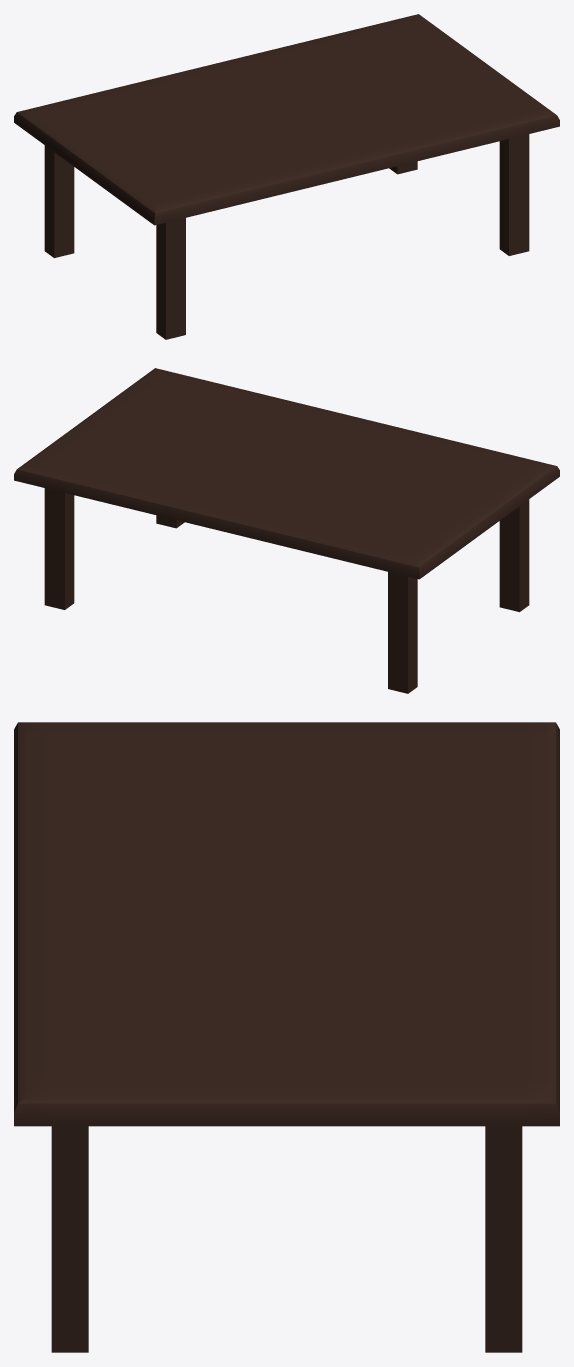
File: table.fbx
3 renders of one model, top to bottom at view 1: azimuth 30°, elevation 25°; view 2: azimuth 150°, elevation 25°; view 3: azimuth 270°, elevation 25°, orthographic. The views are drawn at different scales.
Parts seen in each view (by area): view 1: pCube1; view 2: pCube1; view 3: pCube1.
Boxes of the visible parts, box(x1,y1,x2,y2) form: pCube1: box(14, 14, 559, 339); pCube1: box(14, 368, 559, 693); pCube1: box(14, 722, 559, 1352).
Size of the model in its own units: 100 by 32.84 by 60.
